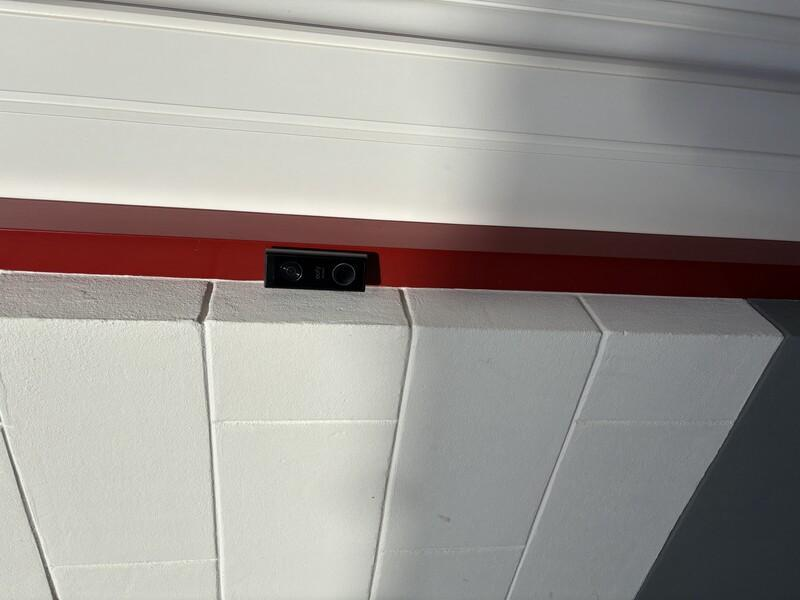doorbell: (305, 253, 350, 387)
